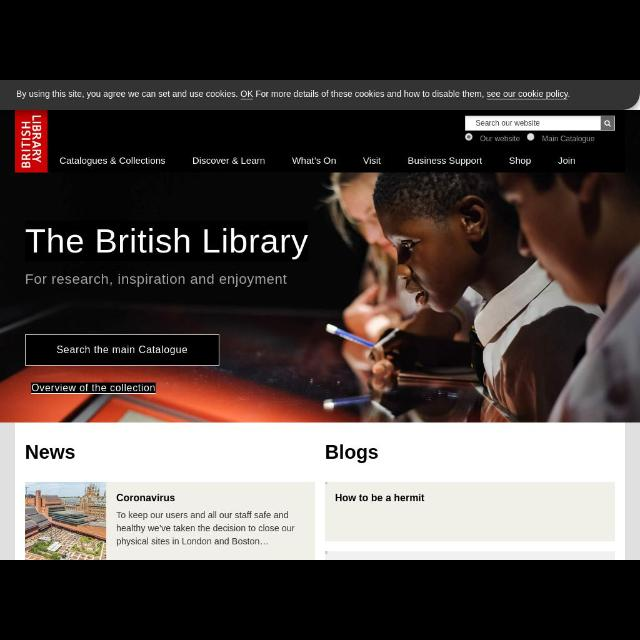backgroundimage: (1, 175, 640, 422)
checkbox: (526, 134, 534, 142), (465, 134, 471, 140)
icon: (604, 120, 612, 128)
image: (26, 481, 106, 559)
input: (464, 116, 616, 130)
text: (25, 228, 309, 258), (117, 512, 293, 546), (16, 89, 570, 99), (26, 274, 288, 286), (20, 115, 42, 168), (32, 383, 154, 392), (335, 493, 425, 503), (326, 444, 378, 460), (59, 158, 164, 165), (26, 446, 76, 460), (115, 494, 175, 504), (408, 157, 482, 165), (194, 156, 266, 164), (476, 120, 540, 126), (480, 134, 520, 142), (542, 136, 594, 142), (293, 158, 335, 165), (510, 157, 530, 165), (363, 156, 381, 164), (559, 158, 575, 165)
textbutton: (25, 334, 221, 366)
toolbar: (1, 110, 640, 173)
